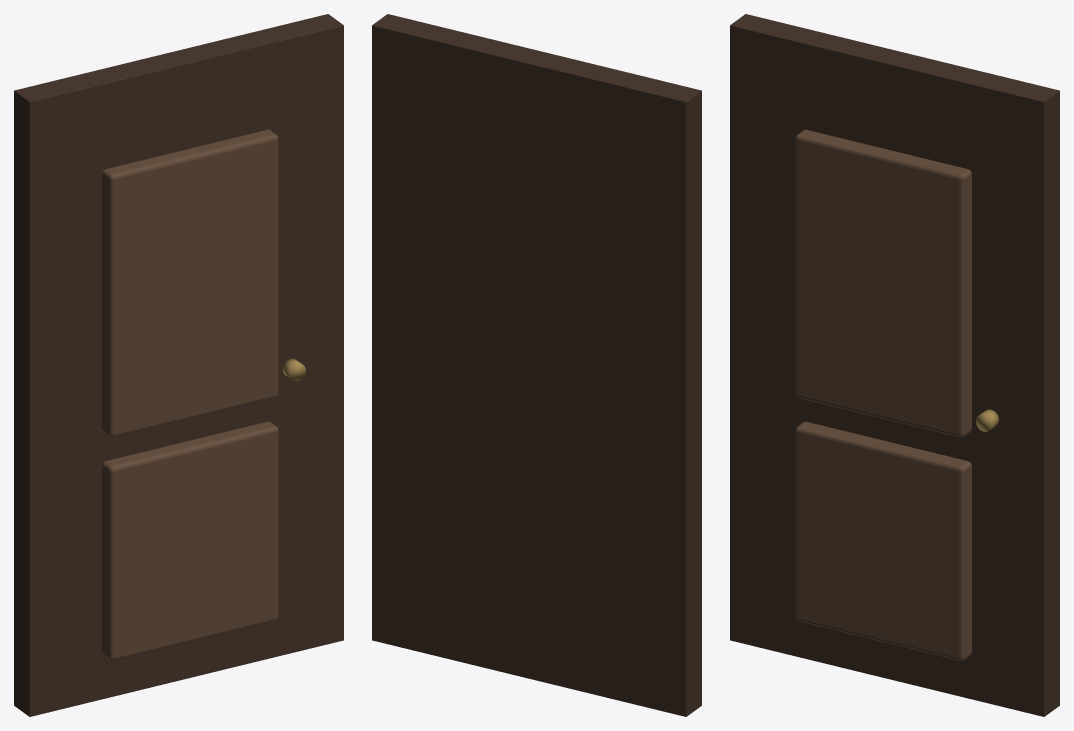
Rendered from door.glb.
The picture shows the model from 3 angles, left to right: view 1: azimuth 30°, elevation 25°; view 2: azimuth 150°, elevation 25°; view 3: azimuth 330°, elevation 25°; orthographic projection.
Parts seen in each view (by area): view 1: frame, panelUpper, panelLower; view 2: frame; view 3: frame, panelUpper, panelLower.
Boxes of the visible parts, x1=… form: frame: x1=14, y1=14, x2=343, y2=716; panelUpper: x1=102, y1=129, x2=278, y2=437; panelLower: x1=102, y1=421, x2=278, y2=660; frame: x1=372, y1=14, x2=701, y2=716; frame: x1=730, y1=14, x2=1059, y2=716; panelUpper: x1=795, y1=129, x2=971, y2=437; panelLower: x1=795, y1=421, x2=971, y2=660.
Bounding box in the file's own units: 1.15 × 2.15 × 0.155.
